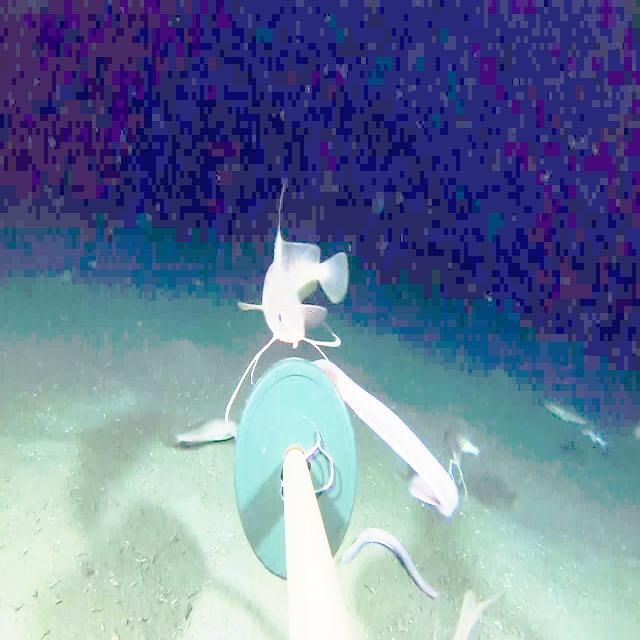eel: (304, 350, 466, 532), (328, 520, 448, 612)
fish: (240, 211, 356, 357), (434, 574, 514, 640), (162, 402, 240, 458), (436, 412, 489, 476), (535, 389, 591, 424), (574, 419, 618, 462)
pole: (236, 361, 363, 577)
